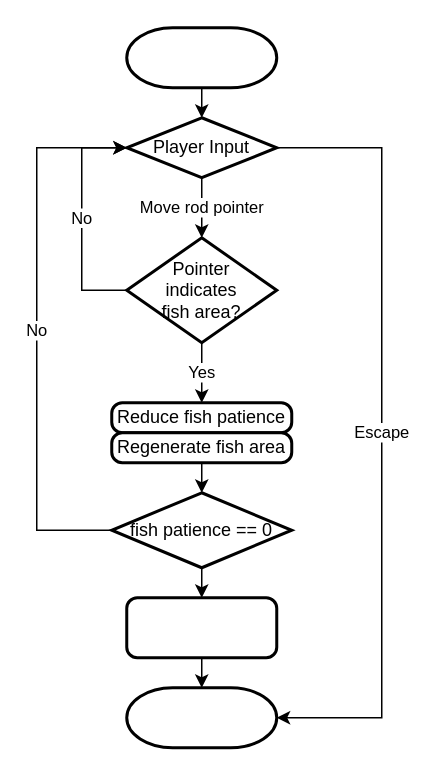
Some shapes in this 435 by 774 pixel diagram are drawn without their labels. The shapes that lost their labels are listed below. From the top down, each one's centre as x and y in pixels, then its label:
At (201,57): "Enter FishingScene".
At (201,627): "Score Up".
At (201,717): "Enter FisheryScene".
